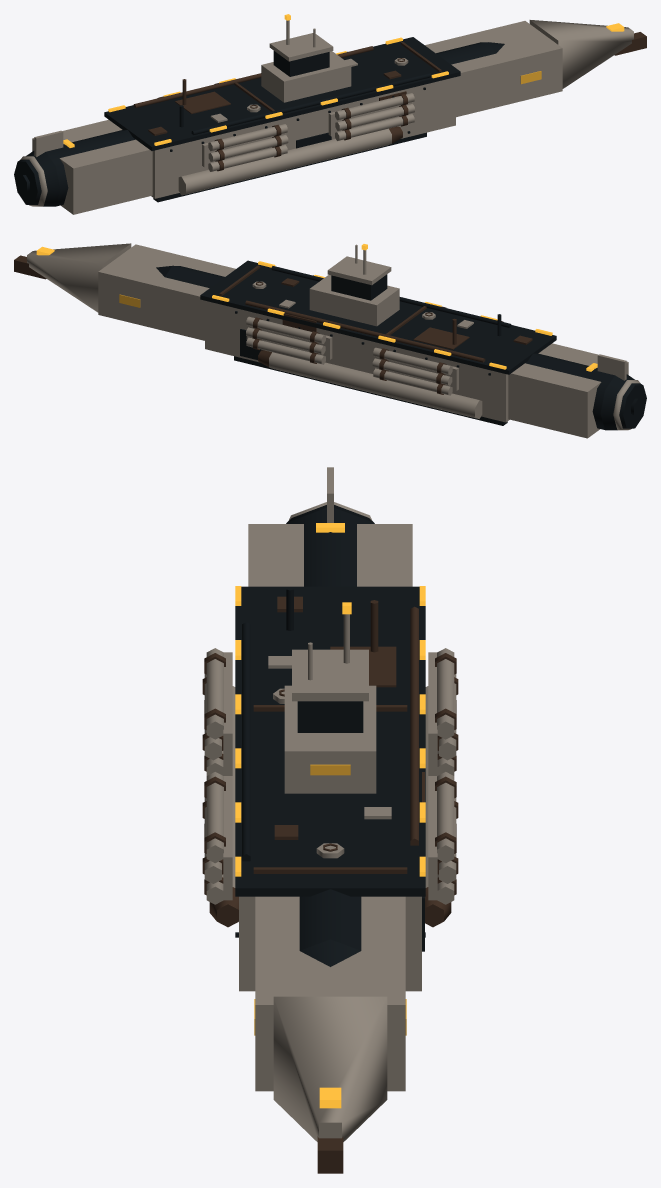
Rendered from corvette-bathyarch.glb.
The picture shows the model from 3 angles, top to bottom: view 1: azimuth 30°, elevation 25°; view 2: azimuth 150°, elevation 25°; view 3: azimuth 270°, elevation 25°; orthographic projection. The views are drawn at different scales.
Parts seen in each view (by area): view 1: deck_plate, hull_fore, hull_mid, hull_aft, ballast_s, bow_wedge, tower_base, pressure_cylinder, pressure_cap_aft, pipe_deck_s, tower_cap, tower_cab (+15 smaller); view 2: deck_plate, hull_fore, hull_mid, hull_aft, ballast_p, bow_wedge, tower_base, pressure_cylinder, pressure_cap_aft, tower_cap, pipe_deck_p, tower_cab (+16 smaller); view 3: deck_plate, hull_fore, bow_wedge, pressure_cylinder, hull_aft, tower_base, tower_cap, hull_mid, pipe_deck_s, pipe_deck_p, tower_cab, torp_p2_2 (+10 smaller).
Part boxes in pixels (left/top/right/bottom): deck_plate: left=104, top=37, right=460, bottom=150; hull_fore: left=425, top=21, right=562, bottom=117; hull_mid: left=151, top=77, right=455, bottom=198; hull_aft: left=32, top=119, right=152, bottom=214; ballast_s: left=178, top=128, right=391, bottom=195; bow_wedge: left=529, top=20, right=633, bottom=88; tower_base: left=261, top=51, right=351, bottom=102; pressure_cylinder: left=46, top=42, right=495, bottom=206; pressure_cap_aft: left=14, top=151, right=60, bottom=206; pipe_deck_s: left=191, top=73, right=431, bottom=134; tower_cap: left=269, top=33, right=333, bottom=61; tower_cab: left=273, top=51, right=329, bottom=76; deck_plate: left=200, top=260, right=556, bottom=374; hull_fore: left=98, top=244, right=235, bottom=340; hull_mid: left=205, top=300, right=509, bottom=422; hull_aft: left=508, top=343, right=628, bottom=438; ballast_p: left=269, top=352, right=482, bottom=418; bow_wedge: left=27, top=243, right=131, bottom=312; tower_base: left=309, top=275, right=399, bottom=326; pressure_cylinder: left=165, top=265, right=614, bottom=429; pressure_cap_aft: left=600, top=374, right=646, bottom=430; tower_cap: left=327, top=256, right=391, bottom=285; pipe_deck_p: left=245, top=300, right=485, bottom=362; tower_cab: left=331, top=274, right=387, bottom=300; deck_plate: left=235, top=586, right=425, bottom=896; hull_fore: left=255, top=896, right=405, bottom=1091; bow_wedge: left=273, top=996, right=387, bottom=1141; pressure_cylinder: left=286, top=508, right=374, bottom=950; hull_aft: left=248, top=524, right=412, bottom=586; tower_base: left=284, top=685, right=376, bottom=793; tower_cap: left=292, top=649, right=368, bottom=701; hull_mid: left=239, top=896, right=421, bottom=991; pipe_deck_s: left=242, top=622, right=250, bottom=861; pipe_deck_p: left=410, top=606, right=418, bottom=845; tower_cab: left=297, top=701, right=363, bottom=732; torp_p2_2: left=437, top=648, right=454, bottom=739.
Bounding box in the file's own units: 80 × 16.48 × 14.26.
